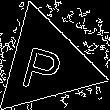P_N: (22, 34, 71, 93)
